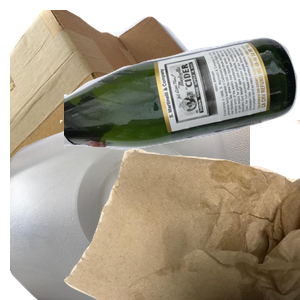cardboard: (10, 10, 206, 190)
glass: (64, 35, 300, 181)
plastic: (10, 120, 250, 300)
trash: (60, 120, 300, 300)
